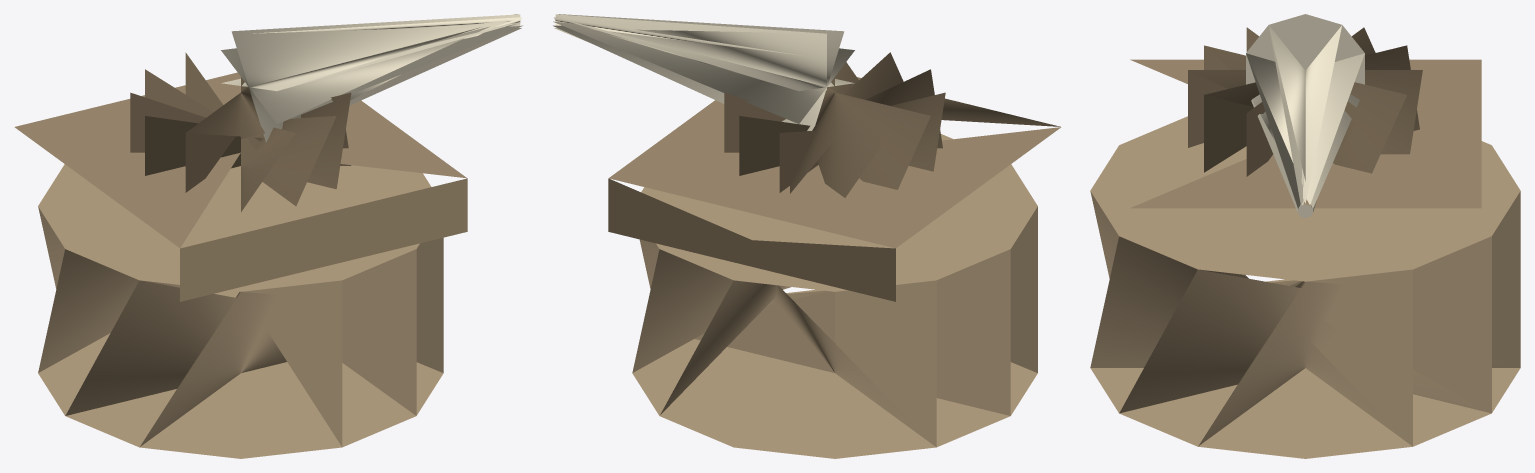
The model's file is tower_arrow.glb.
3 renders of one model, left to right at view 1: azimuth 30°, elevation 25°; view 2: azimuth 150°, elevation 25°; view 3: azimuth 270°, elevation 25°, orthographic. The views are drawn at different scales.
Visible parts, largest first — view 1: body, barrel; view 2: body, barrel; view 3: body, barrel.
Part boxes in pixels (x1,y1,x2,y2): body: (14, 52, 467, 458); barrel: (221, 14, 522, 142); body: (608, 52, 1061, 458); barrel: (553, 14, 854, 130); body: (1090, 27, 1520, 458); barrel: (1246, 14, 1364, 218).
Bounding box in the file's own units: 1.43 × 1.01 × 1.1.
